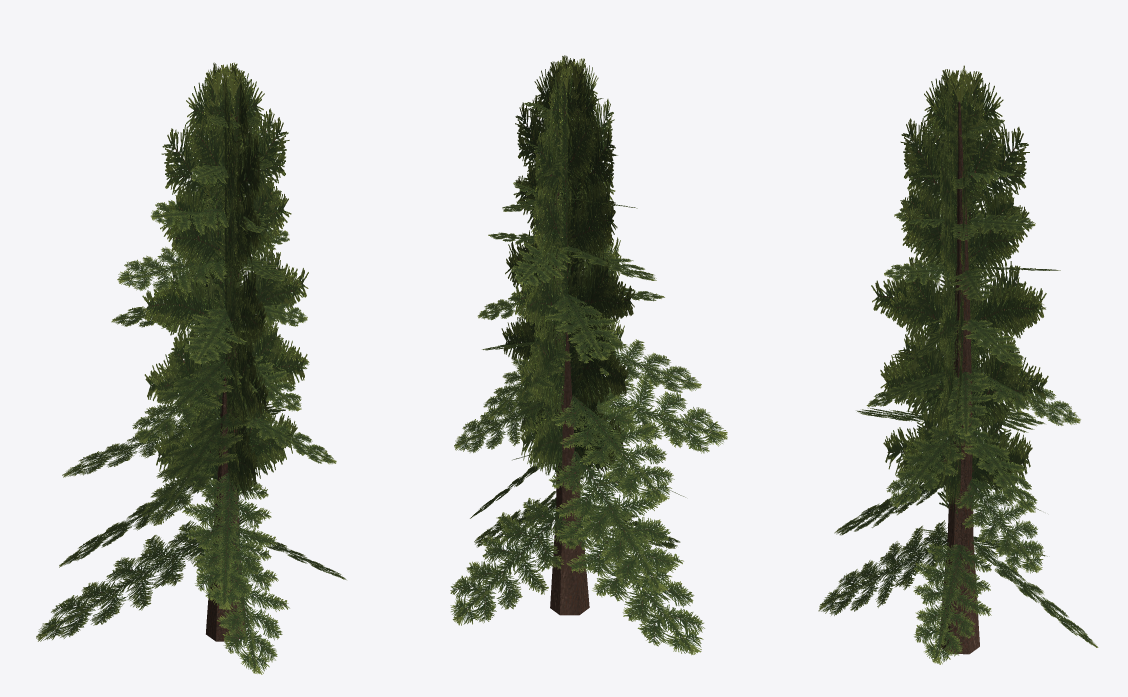
The model's file is pine_a_lod.glb.
The picture shows the model from 3 angles, left to right: view 1: azimuth 30°, elevation 25°; view 2: azimuth 150°, elevation 25°; view 3: azimuth 270°, elevation 25°; orthographic projection. The views are drawn at different scales.
Parts seen in each view (by area): view 1: pine_a_lod_pine_needles_a, pine_a_lod_bark_pine; view 2: pine_a_lod_pine_needles_a, pine_a_lod_bark_pine; view 3: pine_a_lod_pine_needles_a, pine_a_lod_bark_pine.
Part boxes in pixels (x1,y1,x2,y2): pine_a_lod_pine_needles_a: (36, 62, 346, 674); pine_a_lod_bark_pine: (206, 199, 246, 641); pine_a_lod_pine_needles_a: (450, 55, 727, 655); pine_a_lod_bark_pine: (550, 85, 589, 615); pine_a_lod_pine_needles_a: (818, 65, 1098, 664); pine_a_lod_bark_pine: (939, 101, 979, 654).
Bounding box in the file's own units: 8.29 × 14.71 × 7.28.
2 materials, 2 textured.
